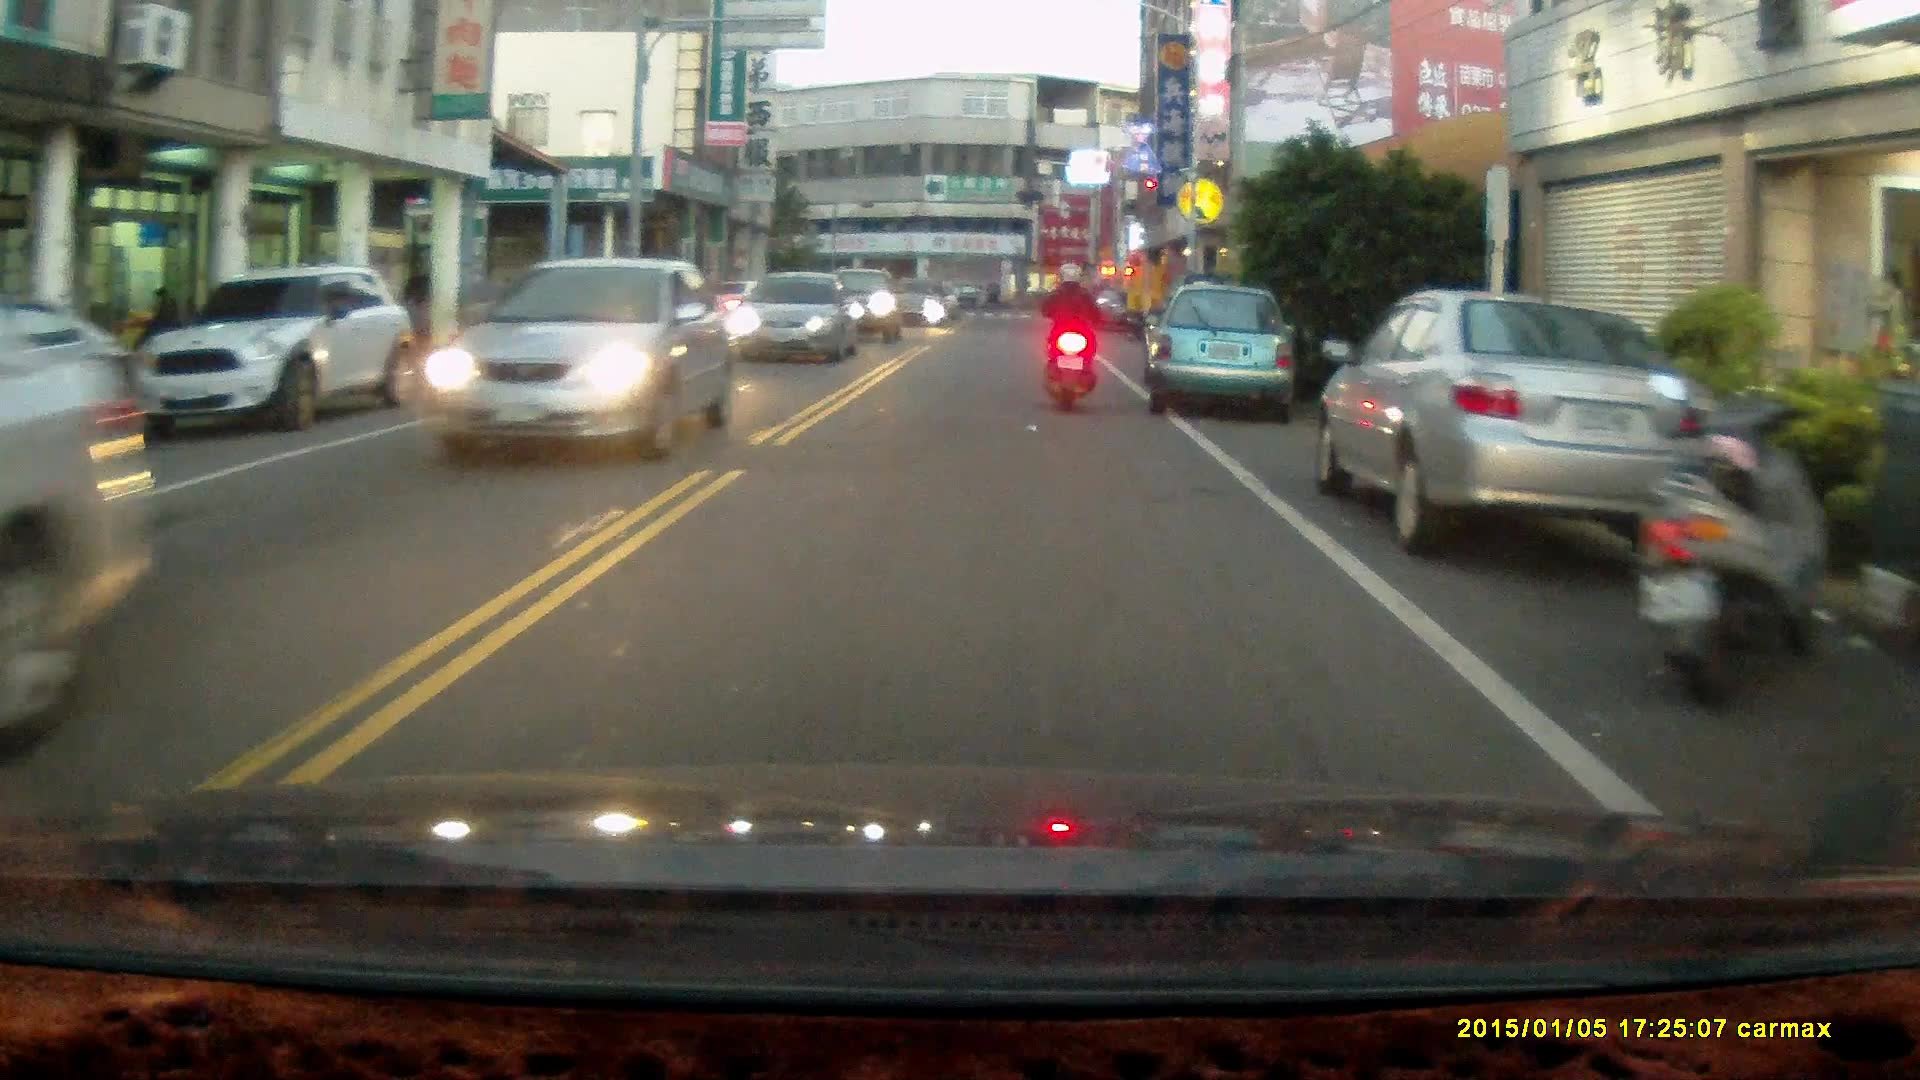pedestrian: (143, 285, 180, 357)
rider: (1036, 258, 1107, 415)
vehicle: (1314, 293, 1766, 558), (418, 261, 744, 460), (1, 307, 162, 698), (120, 263, 421, 443), (1147, 280, 1301, 425), (722, 269, 856, 365)
